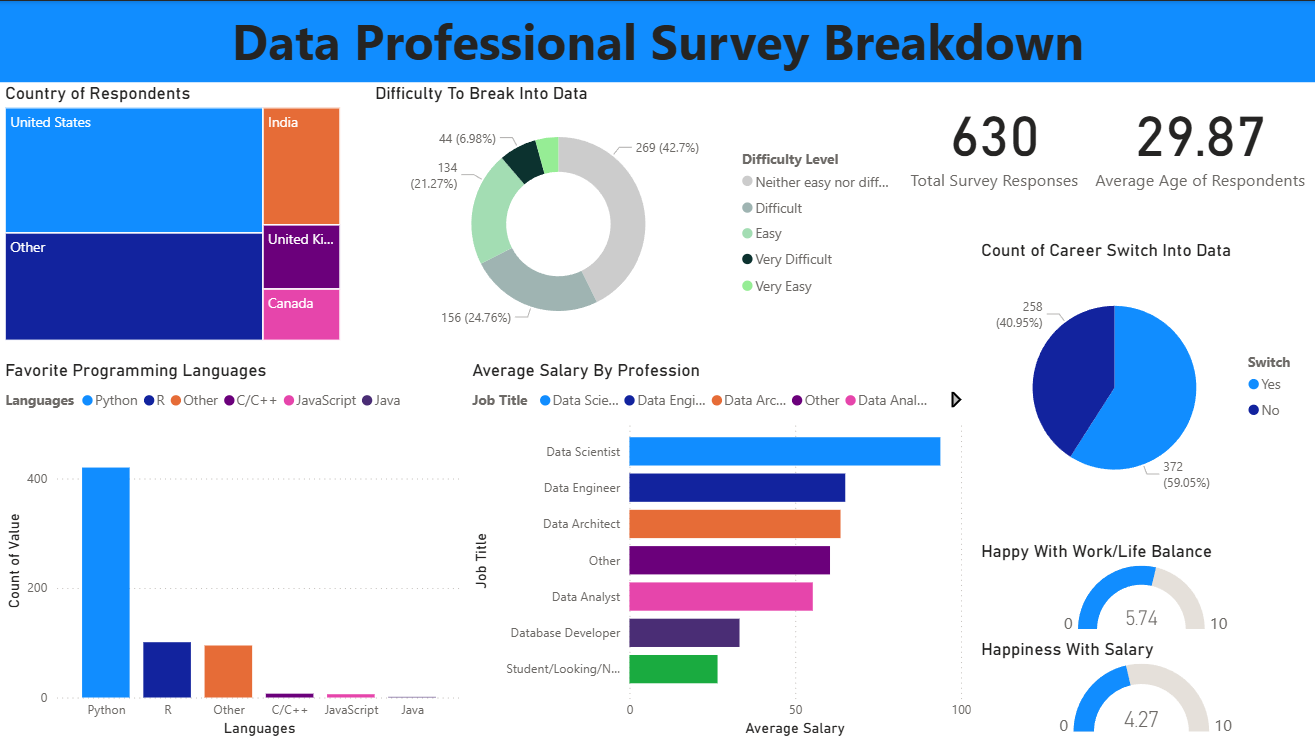

This screenshot's page, from the dashboard's own definition file:
{"tool":"powerbi","page":{"name":"Page 1","canvas":[1280,720],"ordinal":0},"visuals":[{"type":"textbox","box":[0,0,1280,78.8],"z":0},{"type":"card","fields":{"Values":["Count(Data Professional Survey.Unique ID)"]},"box":[880.1,79.3,173.9,110.8],"z":1000},{"type":"card","fields":{"Values":["Avg(Data Professional Survey.Q10 - Current Age)"]},"box":[1054,79.3,226,110.8],"z":2000},{"type":"barChart","title":"Average Salary By Profession","fields":{"Category":["Data Professional Survey.Q1 - Which Title Best Fits your Current Role?.1"],"Y":["Avg(Data Professional Survey.Average Salary)"],"Series":["Data Professional Survey.Q1 - Which Title Best Fits your Current Role?.1"]},"box":[454.2,348.8,495.5,371.6],"z":3000},{"type":"columnChart","title":"Favorite Programming Languages","fields":{"Category":["Data Professional Survey.Q5 - Favorite Programming Language.1"],"Y":["CountNonNull(Data Professional Survey.Q5 - Favorite Programming Language.1)"],"Series":["Data Professional Survey.Q5 - Favorite Programming Language.1"]},"box":[0,348.8,454.2,371.6],"z":4000},{"type":"treemap","title":"Country of Respondents","fields":{"Group":["Data Professional Survey.Q11 - Which Country do you live in?.1"],"Values":["CountNonNull(Data Professional Survey.Q11 - Which Country do you live in?.1)"]},"box":[0,79.3,335.8,255.3],"z":5000},{"type":"gauge","title":"Happy With Work/Life Balance","fields":{"Y":["Avg(Data Professional Survey.Q6 - How Happy are you in your Current Position with the following? (Work/Life Balance))"],"MinValue":["Min(Data Professional Survey.Q6 - How Happy are you in your Current Position with the following? (Work/Life Balance))1"],"MaxValue":["Max(Data Professional Survey.Q6 - How Happy are you in your Current Position with the following? (Work/Life Balance))2"]},"box":[949.7,524.8,330.3,95.6],"z":6000},{"type":"gauge","title":"Happiness With Salary","fields":{"Y":["Avg(Data Professional Survey.Q6 - How Happy are you in your Current Position with the following? (Salary))"],"MinValue":["Min(Data Professional Survey.Q6 - How Happy are you in your Current Position with the following? (Salary))"],"MaxValue":["Max(Data Professional Survey.Q6 - How Happy are you in your Current Position with the following? (Salary))"]},"box":[949.7,620.4,330.3,100],"z":7000},{"type":"donutChart","title":"Difficulty To Break Into Data","fields":{"Category":["Data Professional Survey.Q7 - How difficult was it for you to break into Data?"],"Y":["CountNonNull(Data Professional Survey.Q7 - How difficult was it for you to break into Data?)"]},"box":[359.7,79.3,520.5,255.3],"z":8000},{"type":"pieChart","title":"Count of Career Switch Into Data","fields":{"Category":["Data Professional Survey.Q2 - Did you switch careers into Data?"],"Y":["CountNonNull(Data Professional Survey.Unique ID)"]},"box":[949.7,232.5,330.3,268.4],"z":9000}]}

Visuals, with their boxes in screenshot pixels (x1, y1, x2, y2), scaled from the page's 1280x720 canvas onto the 1315x741 screenshot:
textbox: [left=0, top=0, right=1314, bottom=81]
card - Count(Data Professional Survey.Unique ID): [left=904, top=82, right=1083, bottom=196]
card - Avg(Data Professional Survey.Q10 - Current Age): [left=1083, top=82, right=1314, bottom=196]
"Average Salary By Profession" barChart: [left=467, top=359, right=976, bottom=740]
"Favorite Programming Languages" columnChart: [left=0, top=359, right=467, bottom=740]
"Country of Respondents" treemap: [left=0, top=82, right=345, bottom=344]
"Happy With Work/Life Balance" gauge: [left=976, top=540, right=1314, bottom=638]
"Happiness With Salary" gauge: [left=976, top=638, right=1314, bottom=740]
"Difficulty To Break Into Data" donutChart: [left=370, top=82, right=904, bottom=344]
"Count of Career Switch Into Data" pieChart: [left=976, top=239, right=1314, bottom=516]
